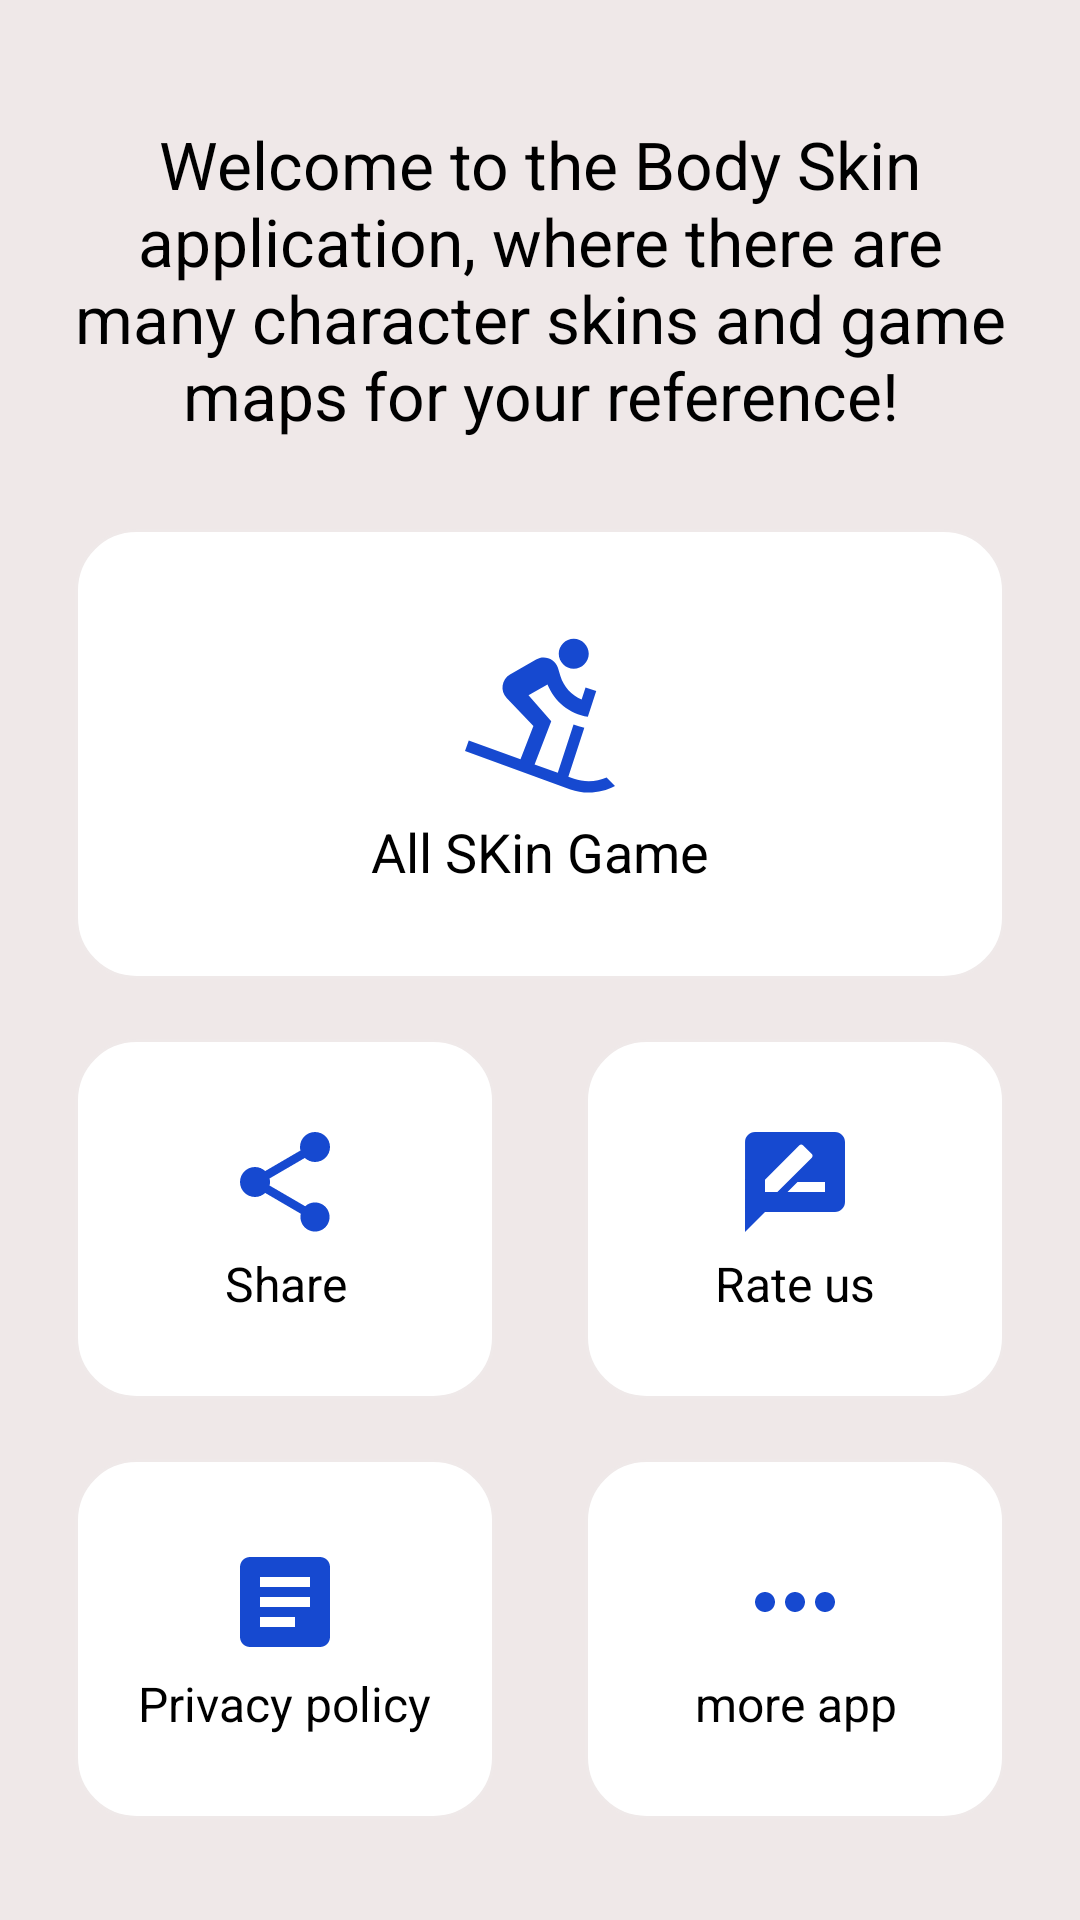

Screen size 1080w x 1920h. Icon name, then its box in pixels as (x1, y1, x2, y2):
article: (240, 1557, 330, 1647)
downhill skiing: (465, 638, 615, 793)
more horiz: (755, 1592, 835, 1612)
rate review: (745, 1132, 845, 1232)
